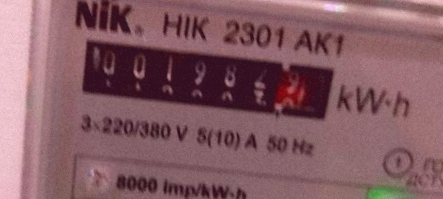0: (129, 51, 148, 80), (100, 46, 117, 76)
1: (161, 52, 175, 82)
2: (251, 60, 271, 90)
8: (221, 59, 239, 88)
9: (282, 67, 303, 96), (190, 57, 207, 86)
screen: (63, 24, 349, 135)
